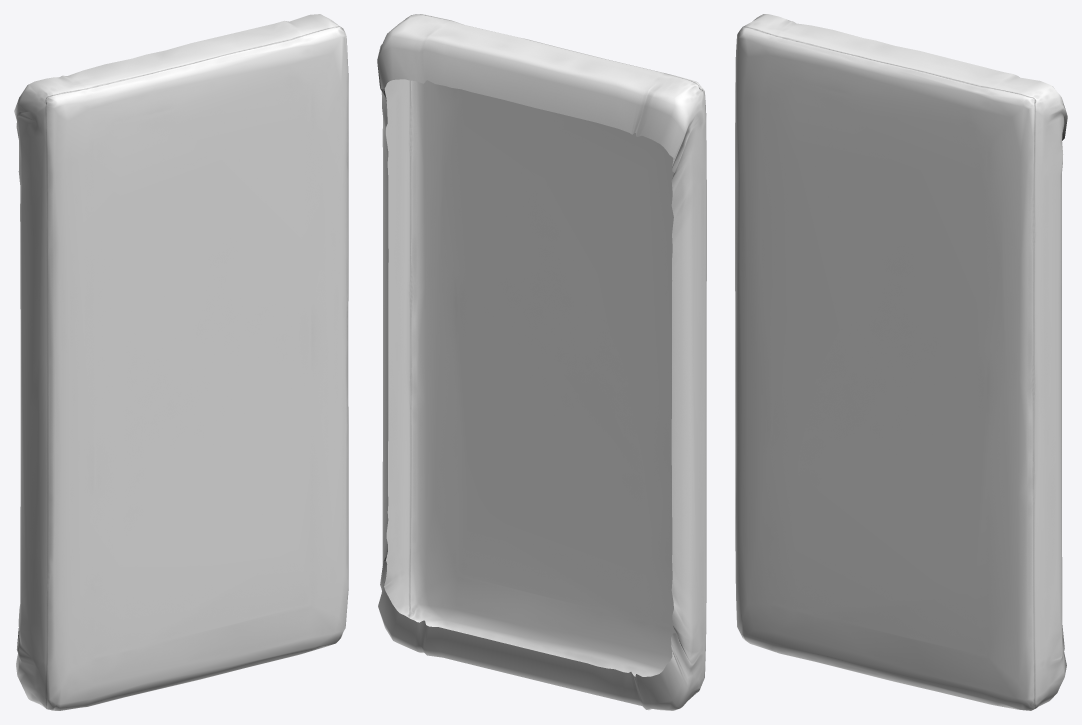
Rendered from BedMattress_3_BedMattress_3_1.obj.
The picture shows the model from 3 angles, left to right: view 1: azimuth 30°, elevation 25°; view 2: azimuth 150°, elevation 25°; view 3: azimuth 330°, elevation 25°; orthographic projection.
Parts seen in each view (by area): view 1: BedMattress_3; view 2: BedMattress_3; view 3: BedMattress_3.
Part boxes in pixels (x1,y1,x2,y2): BedMattress_3: (14,14,348,710); BedMattress_3: (377,14,706,710); BedMattress_3: (735,14,1067,710).
Bounding box in the file's own units: 0.9869 × 1.88 × 0.2012.
